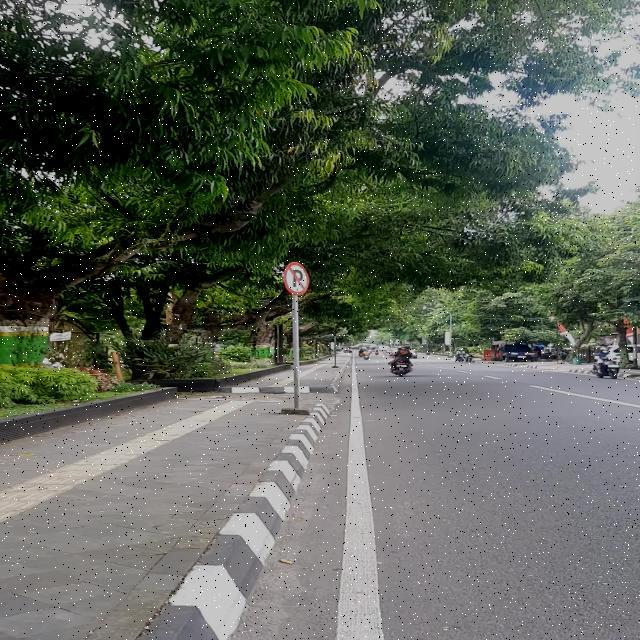Dilarang Parkir: (283, 260, 309, 296)
